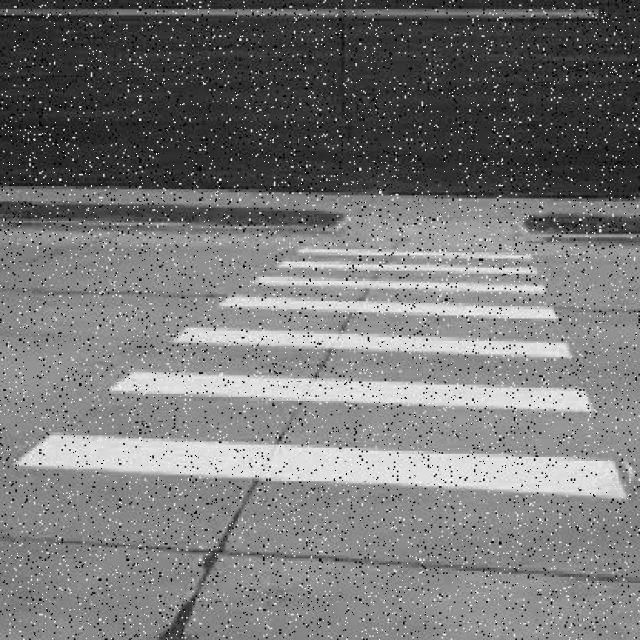Pedestrian crosswalk: (1, 231, 630, 505)
